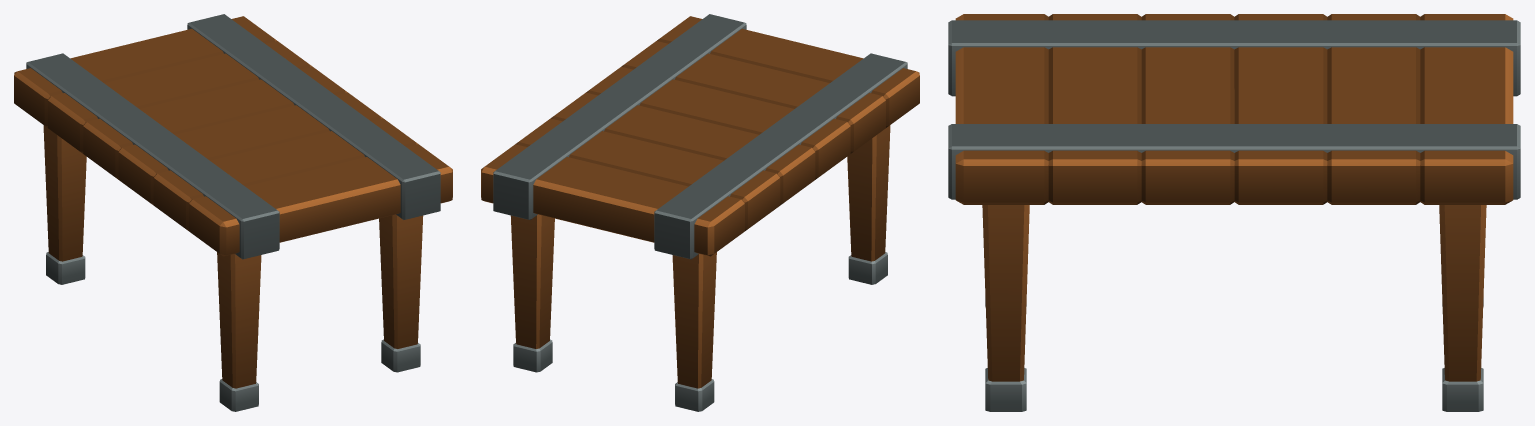
The model's file is Table-1-2.fbx.
3 renders of one model, left to right at view 1: azimuth 30°, elevation 25°; view 2: azimuth 150°, elevation 25°; view 3: azimuth 270°, elevation 25°, orthographic. The views are drawn at different scales.
Visible parts, largest first — view 1: Table-1-2; view 2: Table-1-2; view 3: Table-1-2.
Part boxes in pixels (x1,y1,x2,y2): Table-1-2: (14, 14, 452, 411); Table-1-2: (481, 14, 919, 411); Table-1-2: (948, 14, 1520, 411).
Size of the model in its own units: 148 by 124 by 239.
